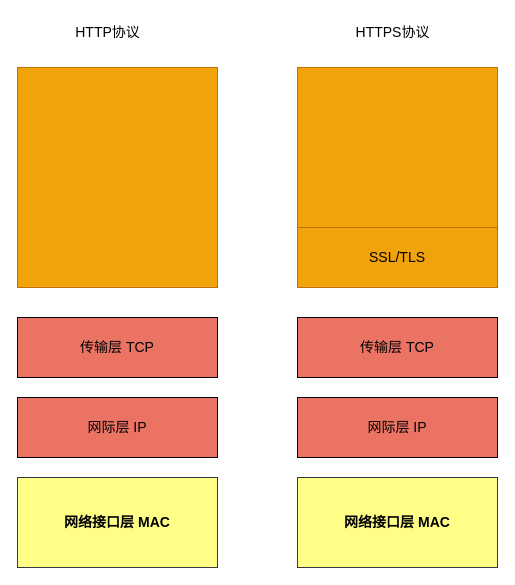
Some shapes in this 515 by 585 pixel diagram are drawn without their labels. The shapes that lost their labels are listed below. From the top down, each one's box as (x1, y1, x2, y2) in pixels, then its label:
(296, 66, 498, 228): 应用层HTTP
(16, 66, 218, 288): 应用层 HTTP
